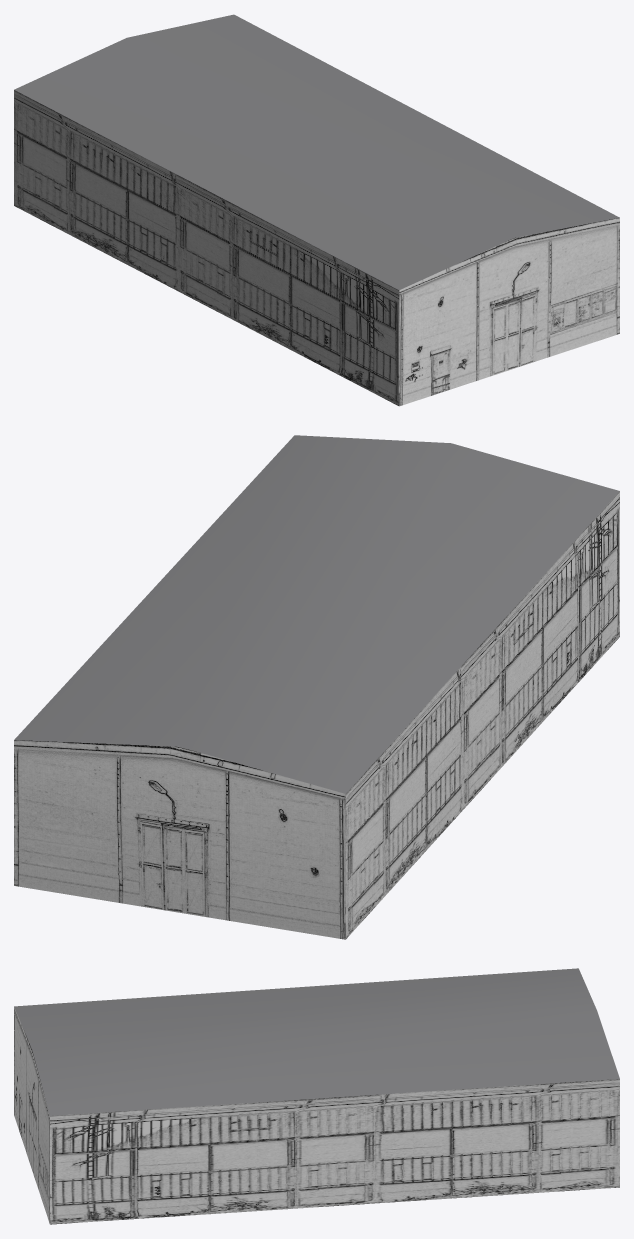
File: VVT-Halle.gltf
3 views of the same model, one above another, from view 1: azimuth 30°, elevation 25°; view 2: azimuth 150°, elevation 25°; view 3: azimuth 270°, elevation 25° (orthographic). The views are drawn at different scales.
Visible parts, largest first — view 1: Dach.1; view 2: Dach.1; view 3: Dach.1.
Part boxes in pixels (bbox=[...]): Dach.1: bbox=[14, 14, 619, 406]; Dach.1: bbox=[14, 435, 619, 939]; Dach.1: bbox=[14, 968, 619, 1224].
Bounding box in the file's own units: 27.39 × 10.6 × 47.52.
5 materials, 4 textured.
